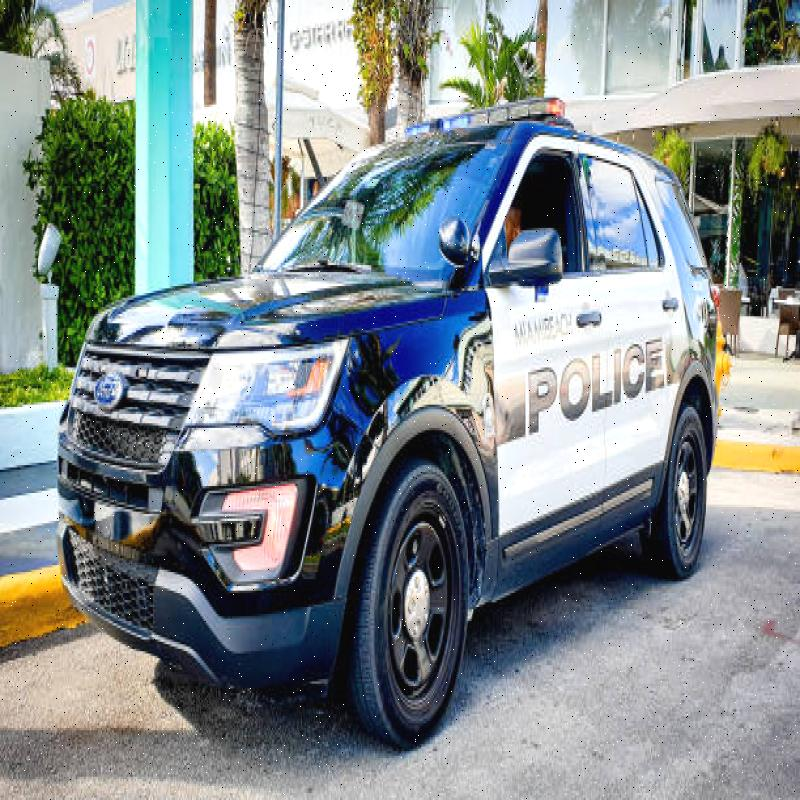AmbulanceSiren: (382, 65, 574, 150)
